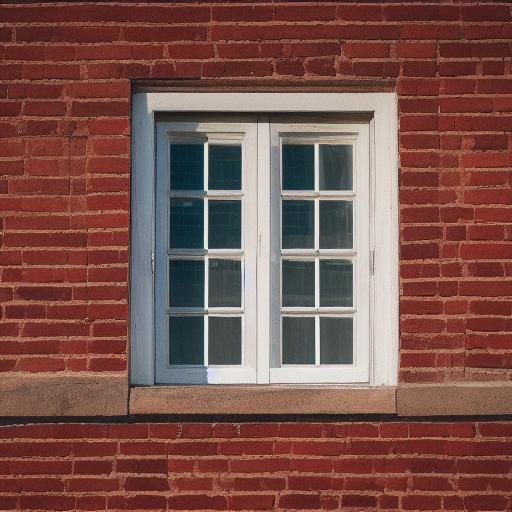Window: (125, 82, 402, 421)
